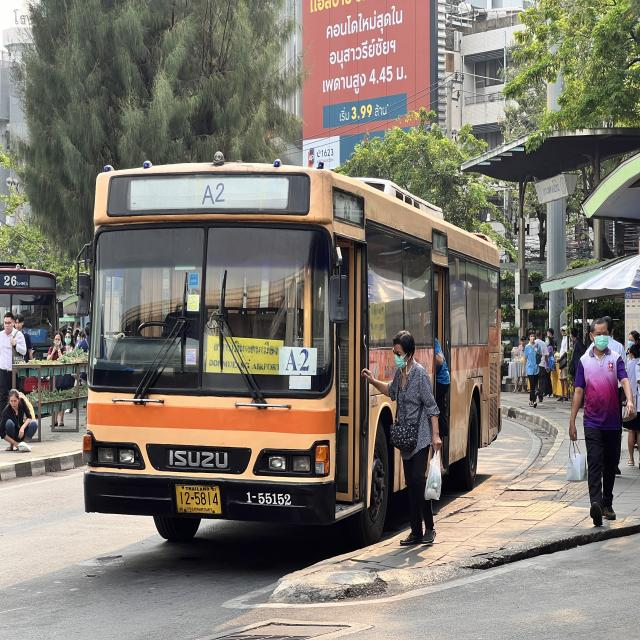BMTA-bus: (83, 161, 502, 546)
Bus-Line-Number: (196, 177, 232, 210)
Destination-Sign-Normal-Expressway: (208, 337, 283, 375)
